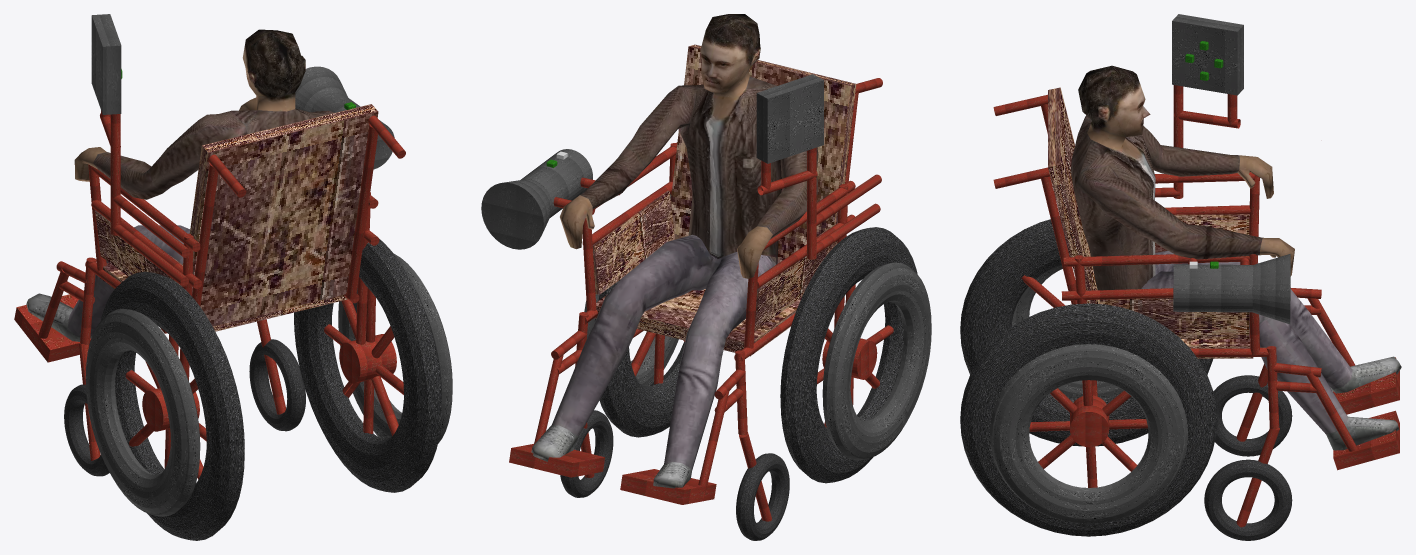
File: clean_кресло 4.1.glb
3 views of the same model, side by side, from view 1: azimuth 30°, elevation 25°; view 2: azimuth 150°, elevation 25°; view 3: azimuth 270°, elevation 25° (orthographic). The views are drawn at different scales.
Visible parts, largest first — view 1: Character_04; view 2: Character_04; view 3: Character_04.
Boxes of the visible parts, x1,y1,x2,y2 form: Character_04: (14,14,452,540); Character_04: (481,14,931,540); Character_04: (960,14,1401,540).
Bounding box in the file's own units: 5.54 × 7.78 × 7.12.
21 materials, 21 textured.
